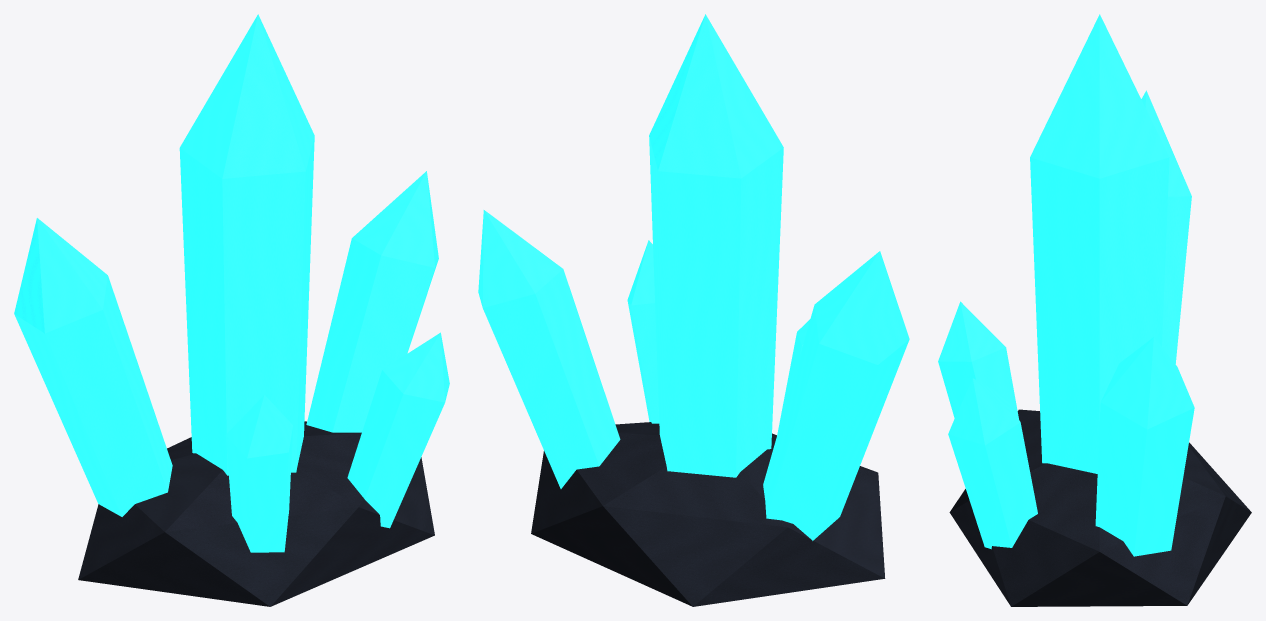
The model's file is CrystalCluster_Cyan.fbx.
The picture shows the model from 3 angles, left to right: view 1: azimuth 30°, elevation 25°; view 2: azimuth 150°, elevation 25°; view 3: azimuth 270°, elevation 25°; orthographic projection.
Visible parts, largest first — view 1: SM_CrystalCluster_Cyan; view 2: SM_CrystalCluster_Cyan; view 3: SM_CrystalCluster_Cyan.
Boxes of the visible parts, box(x1,y1,x2,y2) form: SM_CrystalCluster_Cyan: box(14, 14, 449, 606); SM_CrystalCluster_Cyan: box(478, 14, 909, 606); SM_CrystalCluster_Cyan: box(938, 14, 1251, 606).
Size of the model in its own units: 223 by 145 by 284.
Materials: 1 (1 with a texture image).
